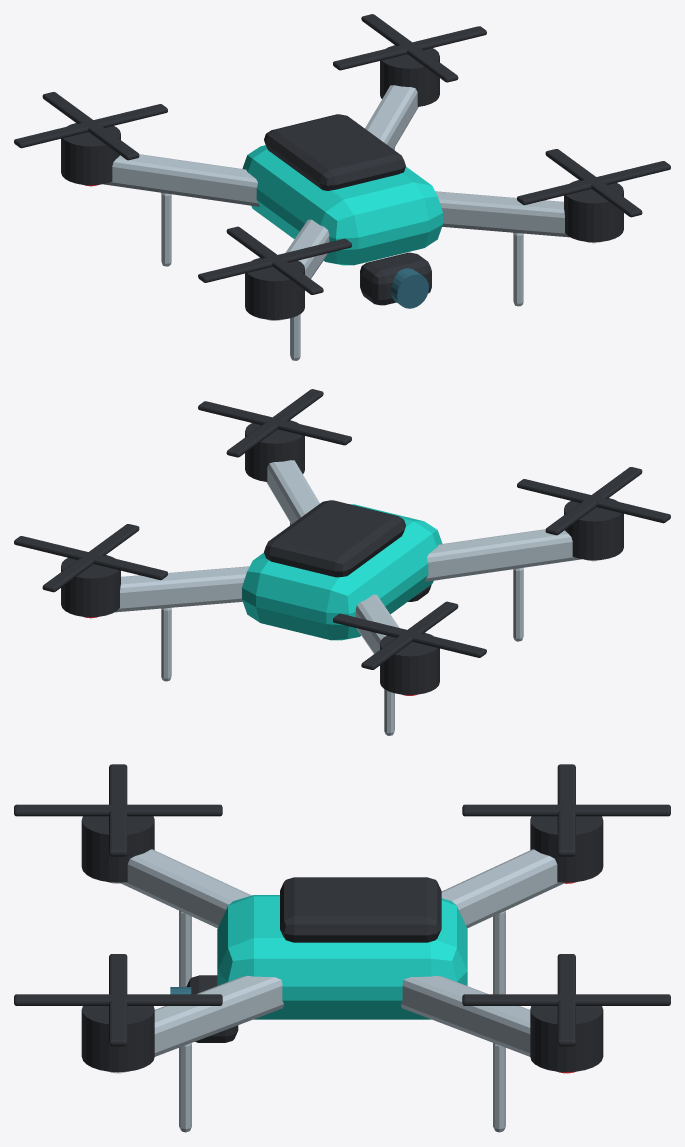
File: taiwan-drone.glb
The picture shows the model from 3 angles, top to bottom: view 1: azimuth 30°, elevation 25°; view 2: azimuth 150°, elevation 25°; view 3: azimuth 270°, elevation 25°; orthographic projection. The views are drawn at different scales.
Parts seen in each view (by area): view 1: Central fuselage, Battery cover, Quad arm, Quad arm.003, Motor.002, Motor.003, Motor, Gimbal, Motor.001, Quad arm.001, Propeller.003, Propeller.001 (+10 smaller); view 2: Central fuselage, Battery cover, Quad arm.002, Quad arm.001, Motor, Motor.001, Motor.002, Motor.003, Quad arm.003, Propeller.001, Propeller.003, Propeller.007 (+8 smaller); view 3: Central fuselage, Battery cover, Quad arm.001, Quad arm.003, Quad arm.002, Quad arm, Motor.001, Motor.003, Motor, Motor.002, Propeller, Propeller.004 (+11 smaller).
Boxes of the visible parts, left/top/right/bottom form: Central fuselage: left=242, top=145, right=442, bottom=265; Battery cover: left=264, top=114, right=405, bottom=190; Quad arm: left=103, top=154, right=259, bottom=206; Quad arm.003: left=435, top=191, right=569, bottom=237; Motor.002: left=245, top=258, right=304, bottom=319; Motor.003: left=564, top=180, right=623, bottom=242; Motor: left=61, top=123, right=120, bottom=185; Gimbal: left=360, top=252, right=431, bottom=305; Motor.001: left=380, top=45, right=439, bottom=106; Quad arm.001: left=365, top=85, right=418, bottom=149; Propeller.003: left=333, top=26, right=486, bottom=70; Propeller.001: left=14, top=104, right=167, bottom=148; Central fuselage: left=242, top=504, right=442, bottom=640; Battery cover: left=264, top=500, right=405, bottom=577; Quad arm.002: left=425, top=529, right=581, bottom=581; Quad arm.001: left=115, top=566, right=249, bottom=612; Motor: left=380, top=633, right=439, bottom=694; Motor.001: left=61, top=555, right=120, bottom=617; Motor.002: left=564, top=498, right=623, bottom=560; Motor.003: left=245, top=420, right=304, bottom=481; Quad arm.003: left=266, top=460, right=319, bottom=524; Propeller.001: left=333, top=613, right=486, bottom=657; Propeller.003: left=14, top=536, right=167, bottom=580; Propeller.007: left=198, top=401, right=351, bottom=445; Central fuselage: left=217, top=895, right=467, bottom=1019; Battery cover: left=280, top=877, right=441, bottom=942; Quad arm.001: left=401, top=975, right=530, bottom=1056; Quad arm.003: left=154, top=975, right=283, bottom=1056; Quad arm.002: left=119, top=849, right=251, bottom=928; Quad arm: left=441, top=849, right=565, bottom=928; Motor.001: left=530, top=1006, right=603, bottom=1072; Motor.003: left=81, top=1006, right=154, bottom=1072; Motor: left=530, top=816, right=603, bottom=882; Motor.002: left=81, top=816, right=154, bottom=882; Propeller: left=462, top=804, right=670, bottom=816; Propeller.004: left=14, top=804, right=222, bottom=816.
Bounding box in the file's own units: 1.26 × 0.3575 × 1.26.
